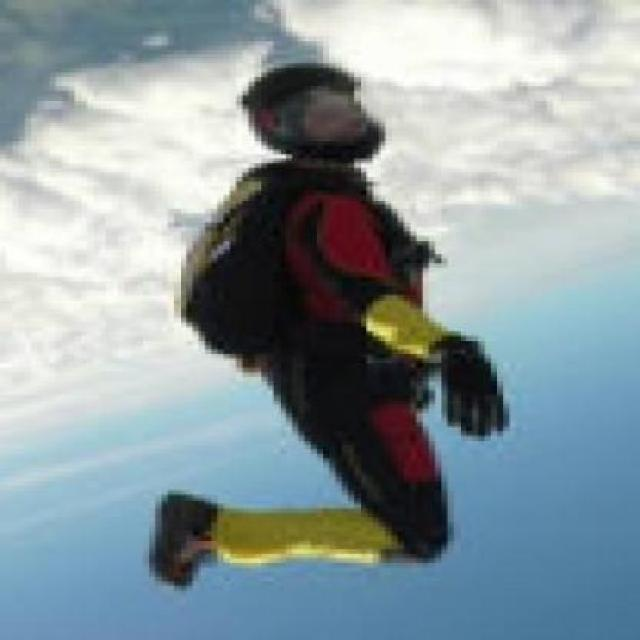fall: (126, 52, 516, 596)
